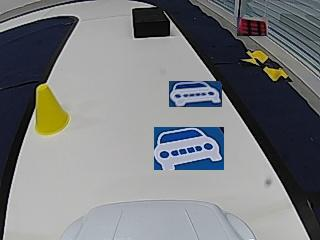block: (132, 7, 170, 37)
cone: (34, 85, 70, 135)
